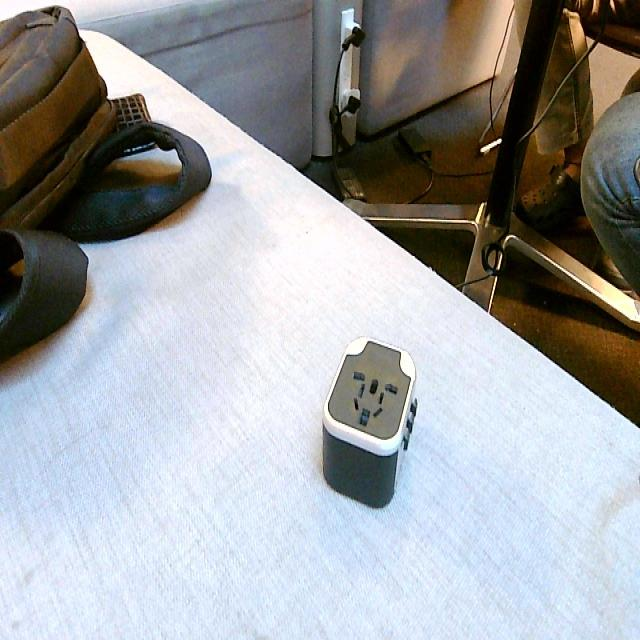adapter: (320, 335, 418, 508)
